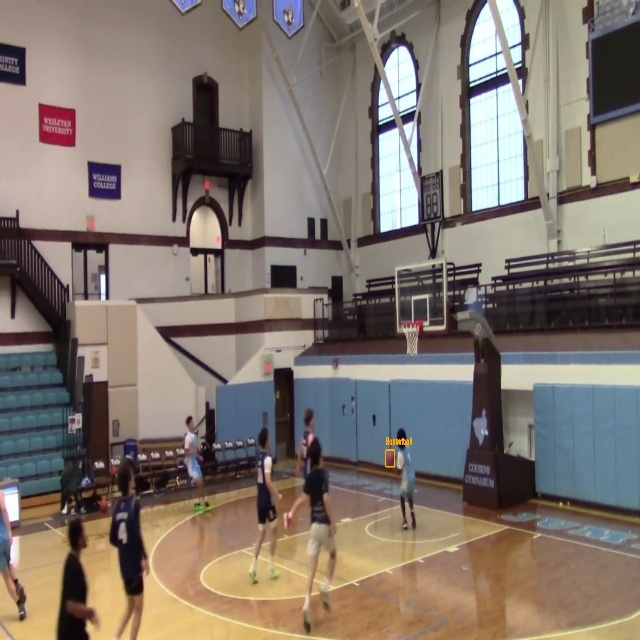Basketball: (386, 450, 394, 467)
